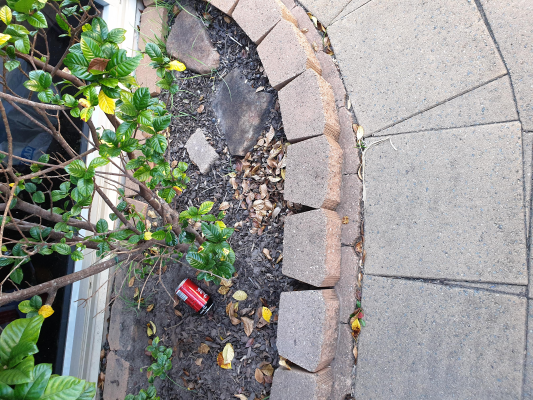Plastic Bottle: (175, 278, 214, 315)
